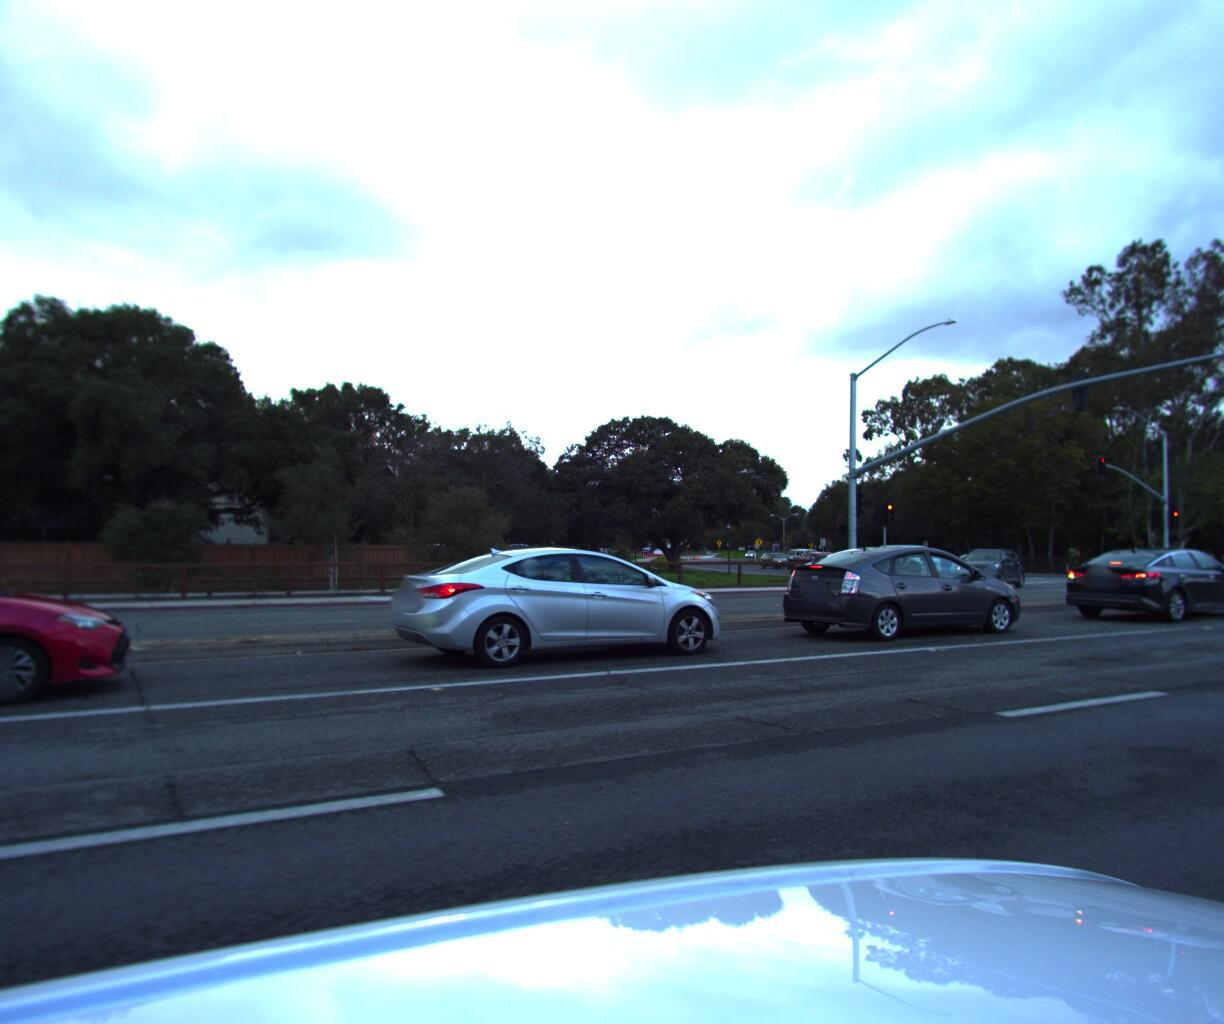car: (380, 543, 745, 673), (0, 534, 135, 759), (770, 541, 1042, 645), (1051, 544, 1224, 622), (945, 545, 1033, 588), (868, 540, 944, 573), (781, 546, 832, 568)
